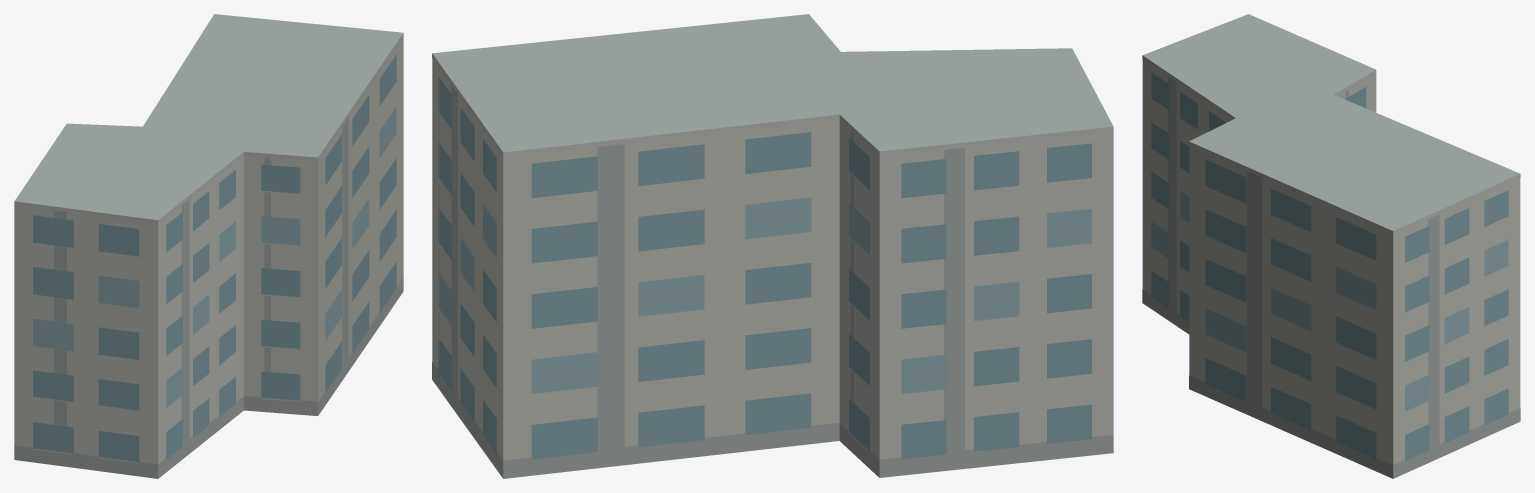
The model's file is residential-1294b79d-8b68-41a4-886b-568fbda5be1e.glb.
The picture shows the model from 3 angles, left to right: view 1: azimuth 30°, elevation 25°; view 2: azimuth 150°, elevation 25°; view 3: azimuth 270°, elevation 25°; orthographic projection. The views are drawn at different scales.
Parts seen in each view (by area): view 1: residential-1294b79d-8b68-41a4-886b-568fbda5be1e.tmp; view 2: residential-1294b79d-8b68-41a4-886b-568fbda5be1e.tmp; view 3: residential-1294b79d-8b68-41a4-886b-568fbda5be1e.tmp.
Part boxes in pixels (x1,y1,x2,y2): residential-1294b79d-8b68-41a4-886b-568fbda5be1e.tmp: [14, 14, 403, 478]; residential-1294b79d-8b68-41a4-886b-568fbda5be1e.tmp: [432, 14, 1113, 478]; residential-1294b79d-8b68-41a4-886b-568fbda5be1e.tmp: [1142, 14, 1520, 478].
Bounding box in the file's own units: 28.67 × 15.25 × 21.09.
